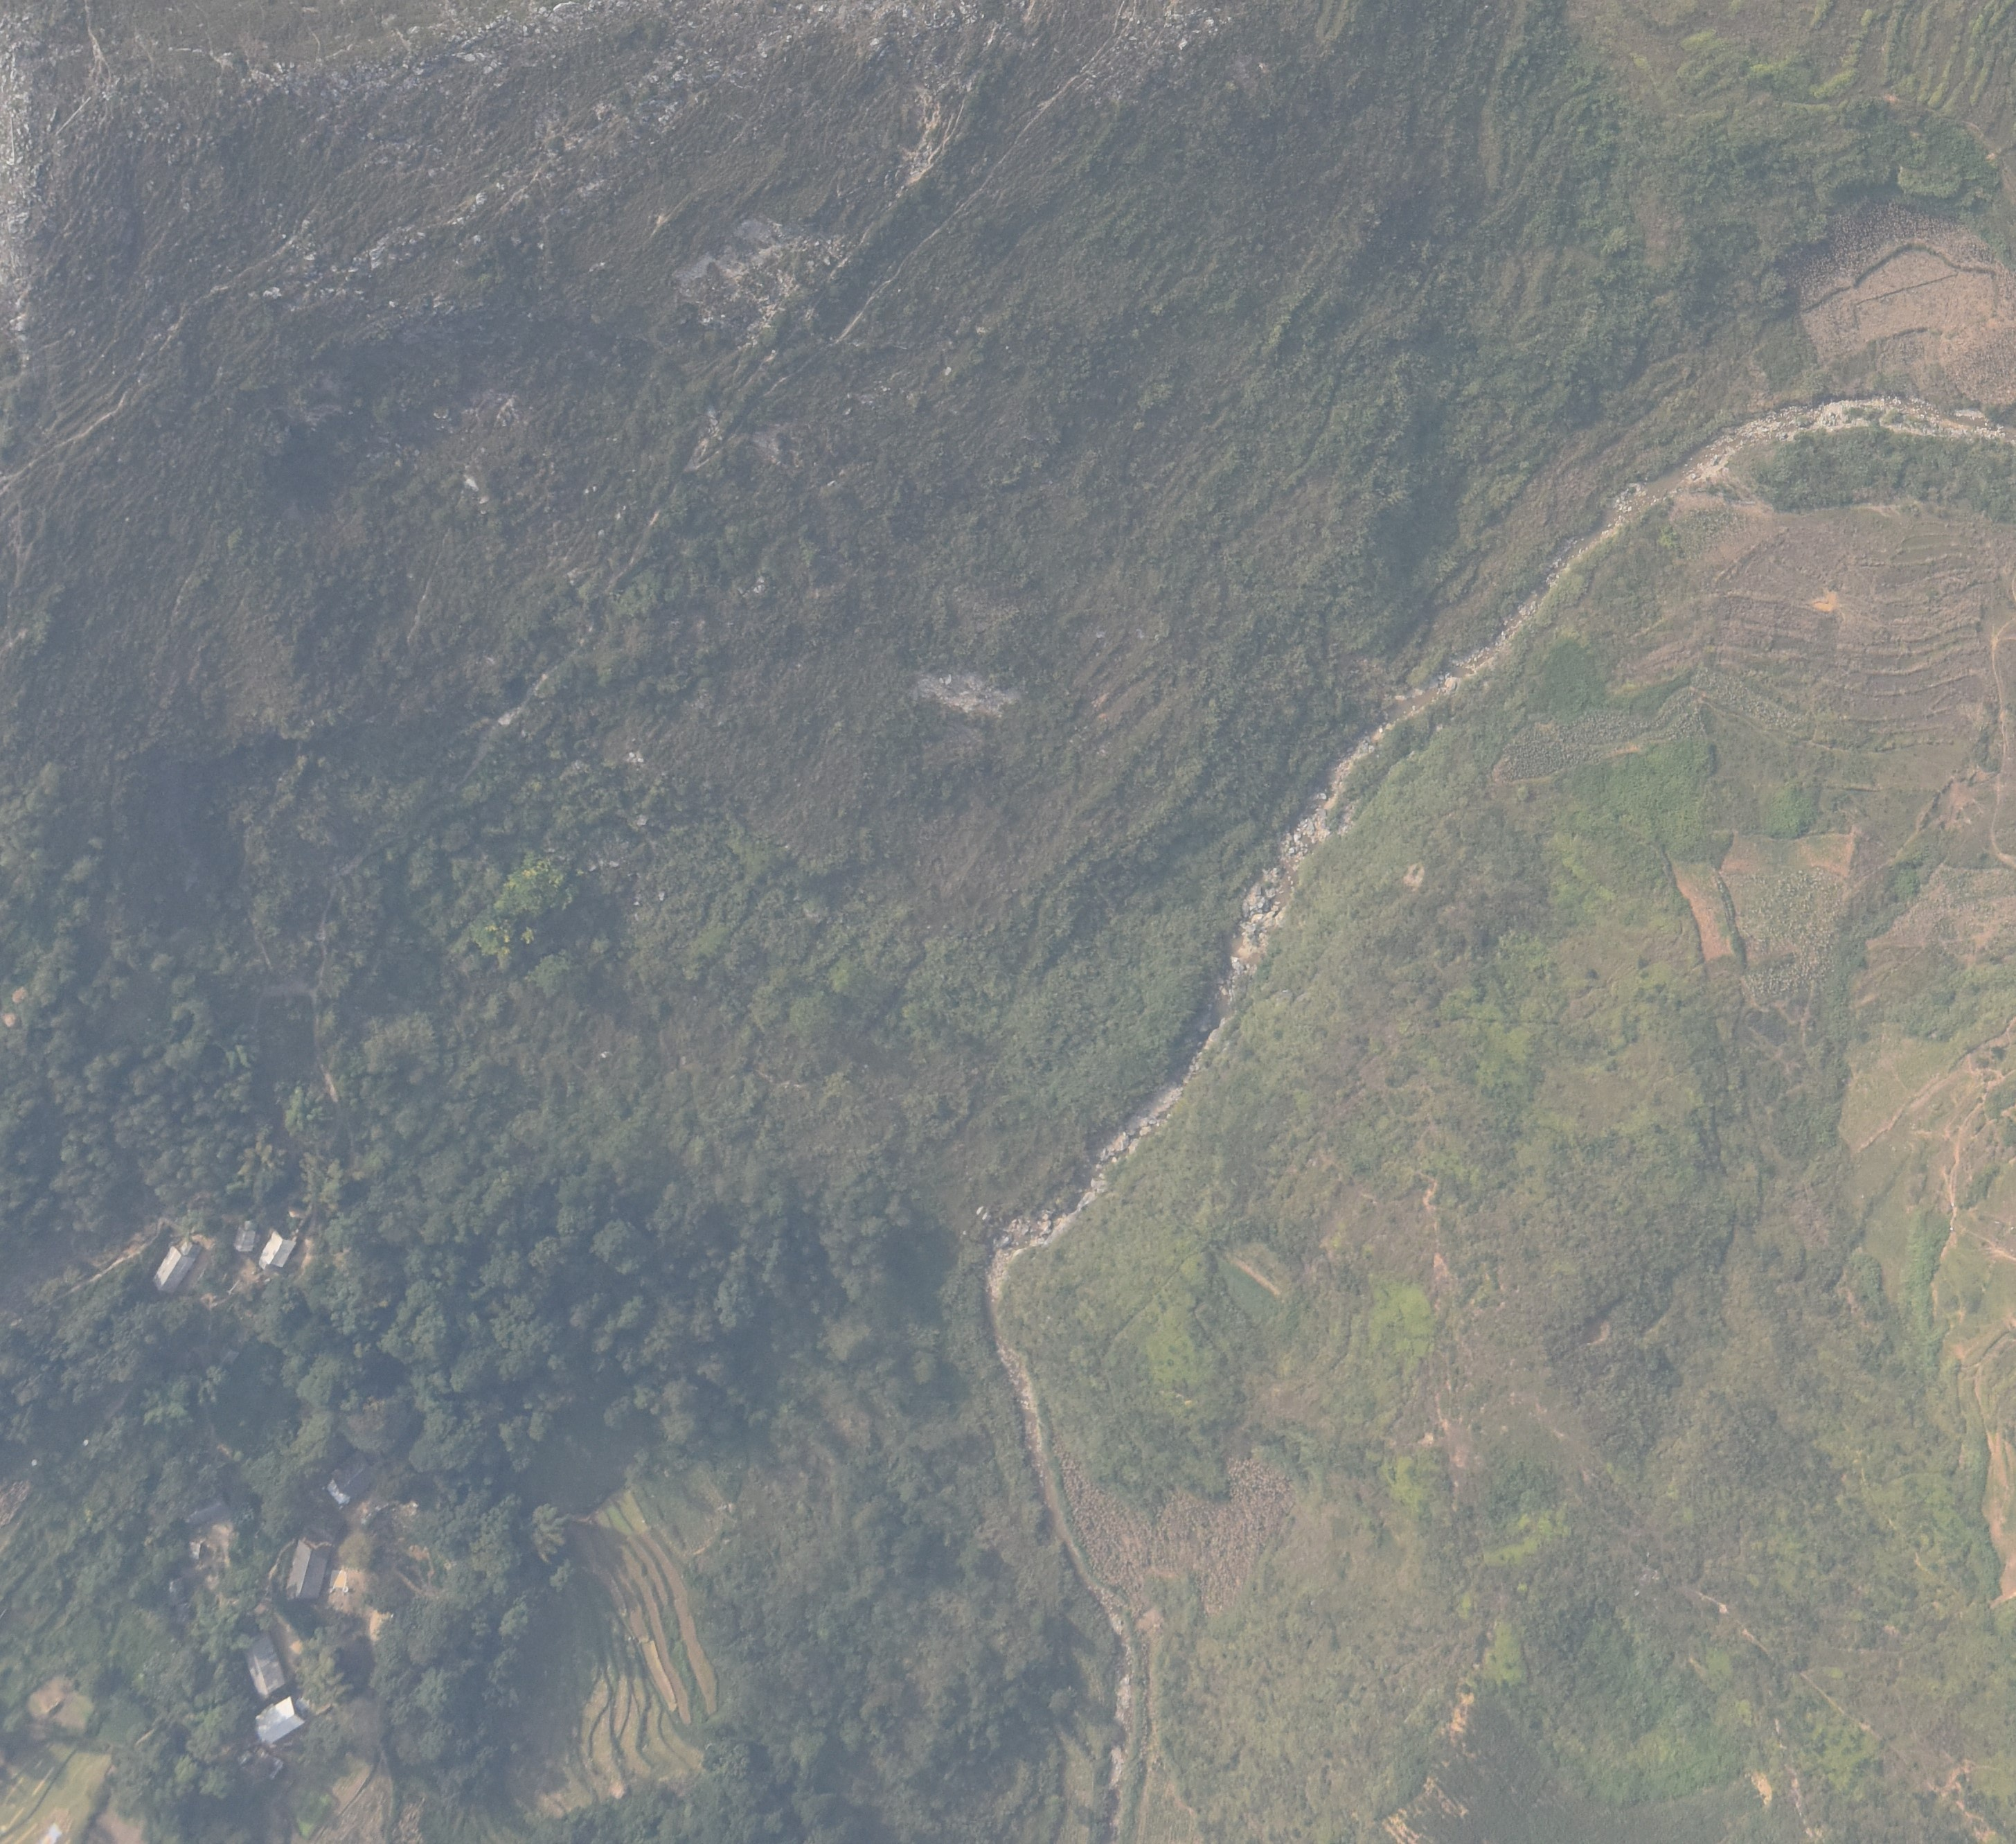building: (153, 1236, 202, 1294), (325, 1451, 374, 1507), (284, 1538, 330, 1598), (241, 1632, 284, 1693), (232, 1221, 256, 1250)
prefabricated-house: (255, 1696, 307, 1744), (258, 1229, 295, 1271)
